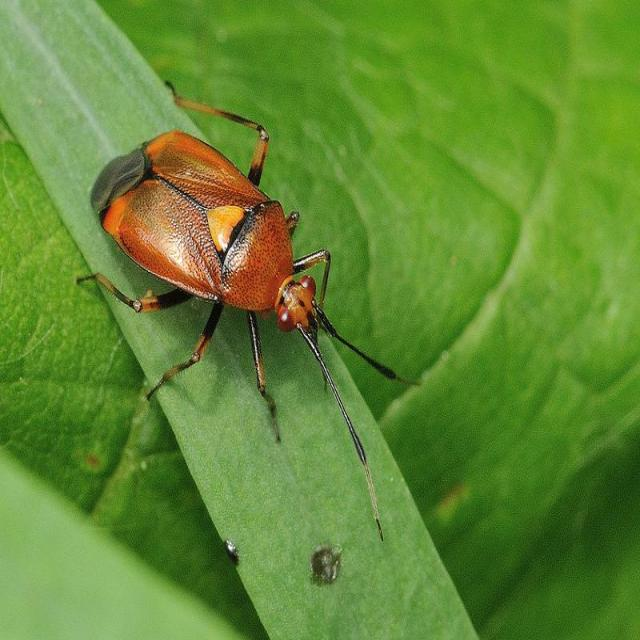Miridae-Adult-: (67, 76, 388, 490)
